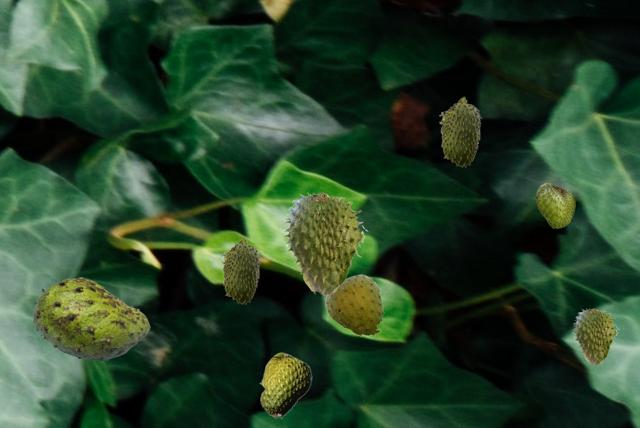guyabano: (32, 277, 149, 360), (282, 192, 367, 297), (324, 274, 383, 336), (259, 352, 311, 418), (439, 96, 481, 166), (572, 308, 618, 365), (221, 237, 260, 303), (536, 182, 574, 227)
